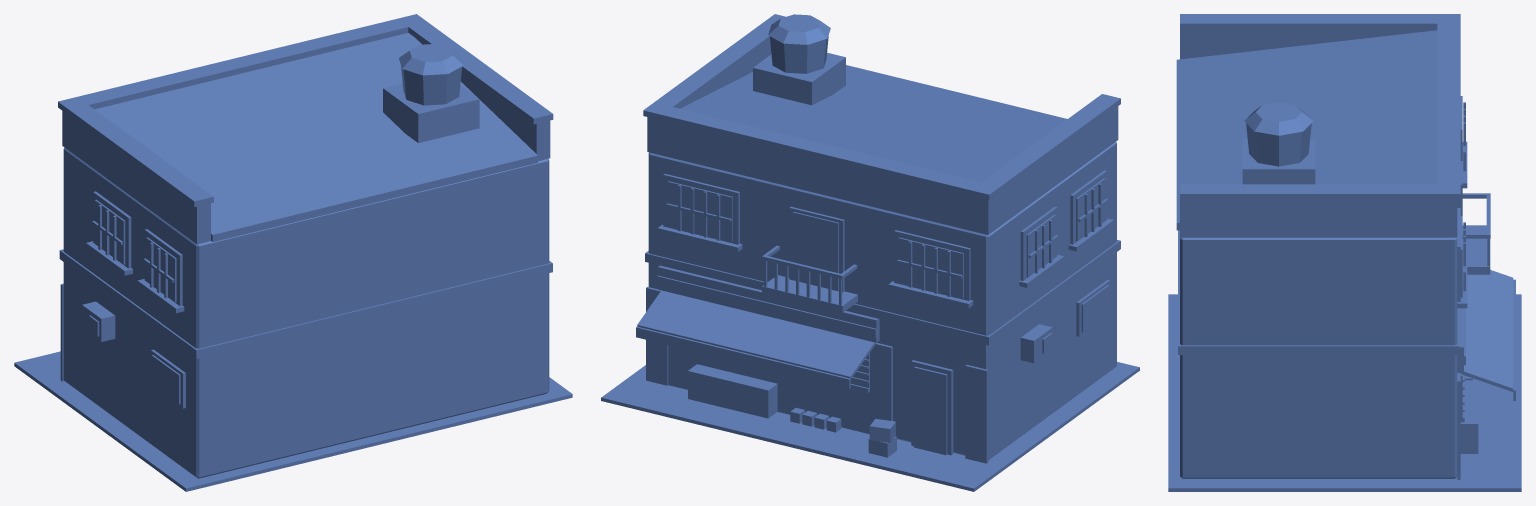
The picture shows the model from 3 angles, left to right: view 1: azimuth 30°, elevation 25°; view 2: azimuth 150°, elevation 25°; view 3: azimuth 270°, elevation 25°; orthographic projection. The views are drawn at different scales.
Parts seen in each view (by area): view 1: corpo; view 2: corpo; view 3: corpo.
Part boxes in pixels (x1,y1,x2,y2): corpo: (14,14,572,491); corpo: (601,14,1139,491); corpo: (1168,14,1521,491).
Size of the model in its own units: 1.39 by 1.12 by 1.07.
